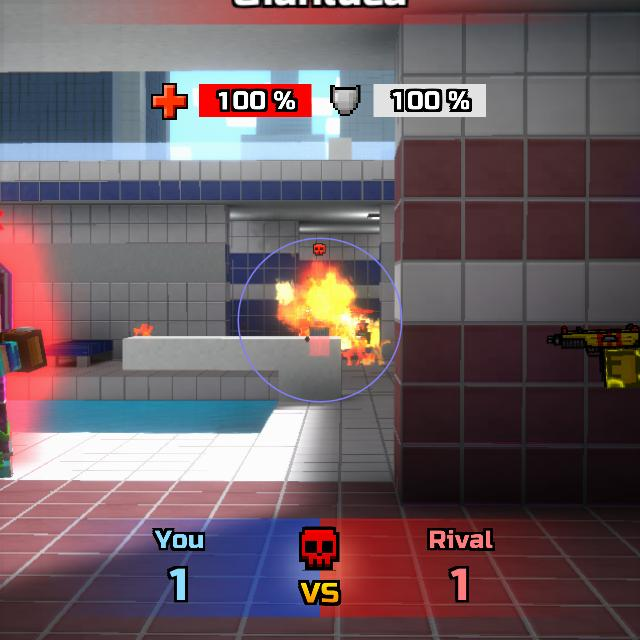Enemy: (0, 263, 47, 478)
